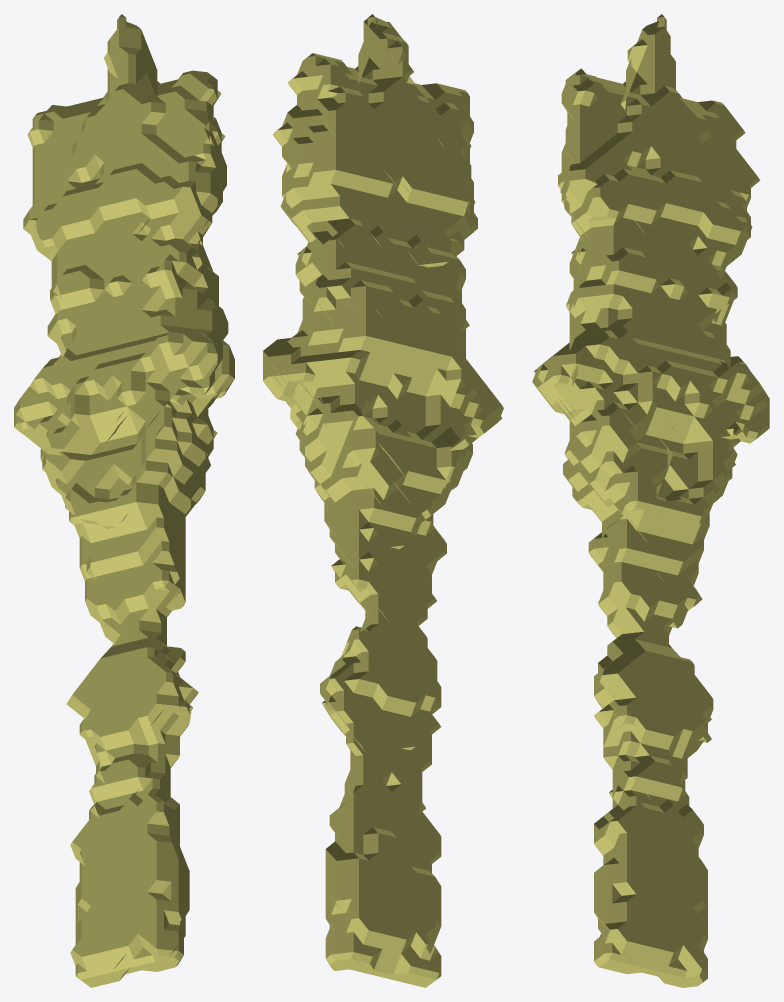
The model's file is region_0032_Cven__ventral_rhombencephalic_commisure_.glb.
3 renders of one model, left to right at view 1: azimuth 30°, elevation 25°; view 2: azimuth 150°, elevation 25°; view 3: azimuth 330°, elevation 25°, orthographic.
Visible parts, largest first — view 1: world; view 2: world; view 3: world.
Part boxes in pixels (box(x1,y1,x2,y2)): world: box(14, 14, 234, 987); world: box(263, 14, 503, 987); world: box(532, 14, 769, 987).
Size of the model in its own units: 0.192 by 0.776 by 0.088.
